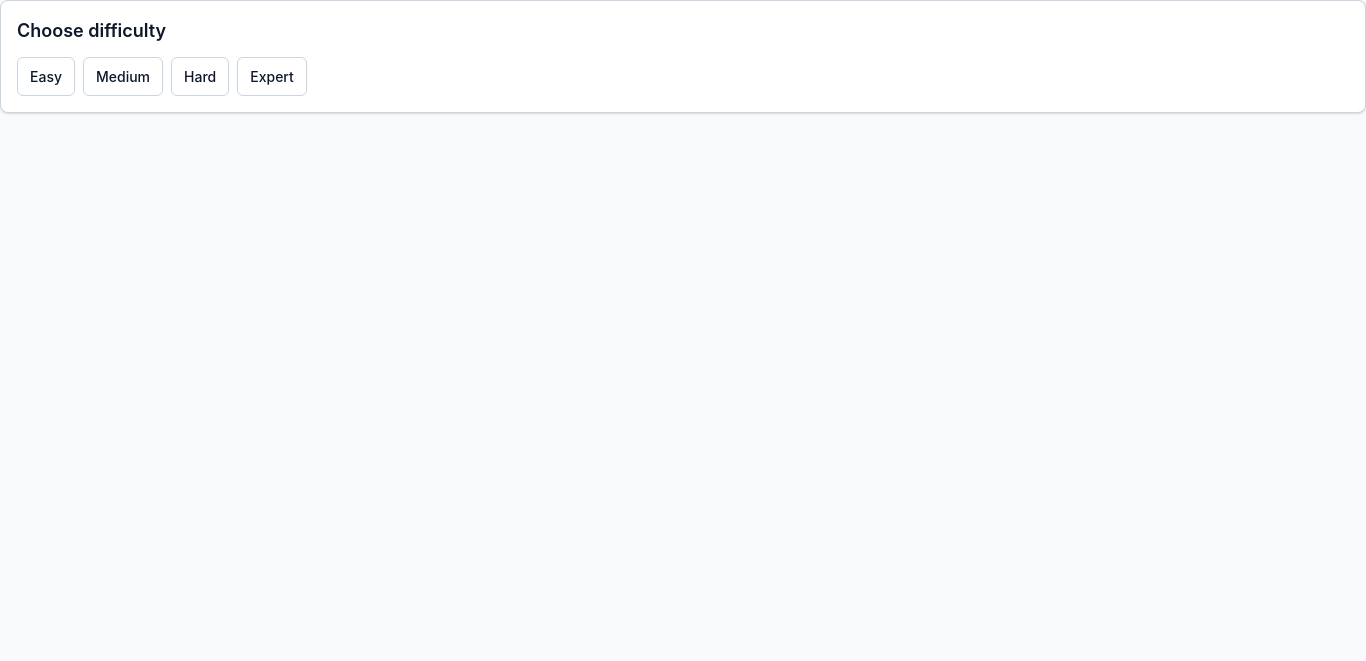
Test case: GamePage integration › starts a game from difficulty selection using worker generation
Click the button "easy": (46, 76) [17,57,75,96]
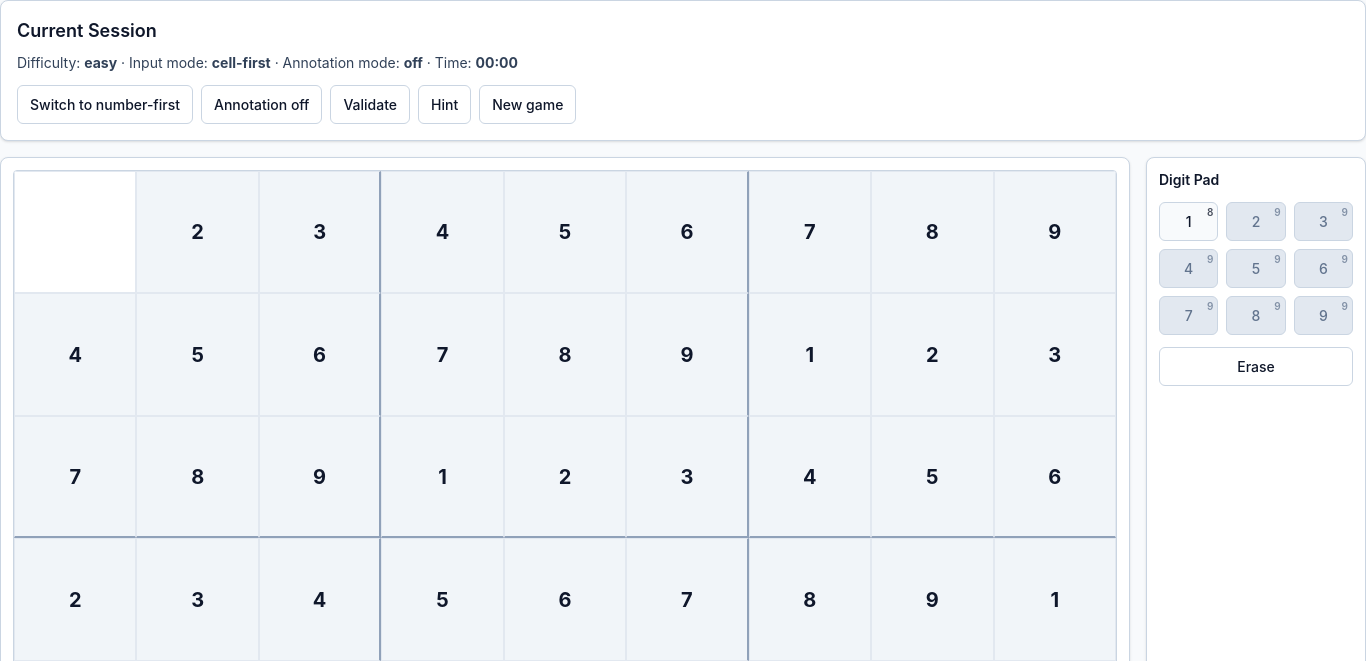
Result: the heading "Current Session" is shown at [17,20,157,41]
Result: the text "Difficulty:" is shown at [17,54,84,71]
